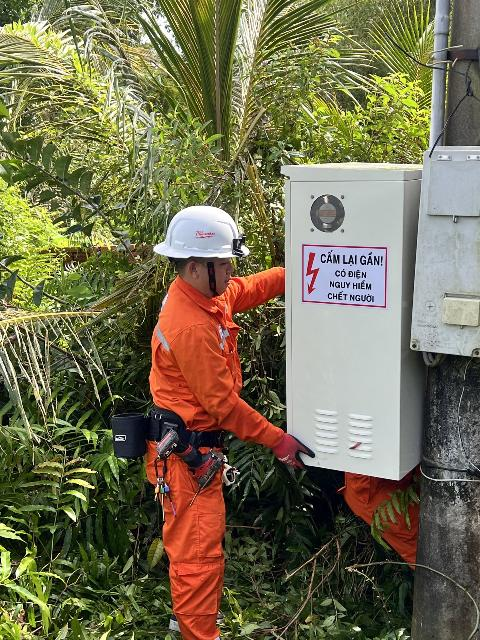gloves: (268, 426, 318, 484)
harness: (134, 402, 251, 462)
helmet: (135, 181, 252, 269)
